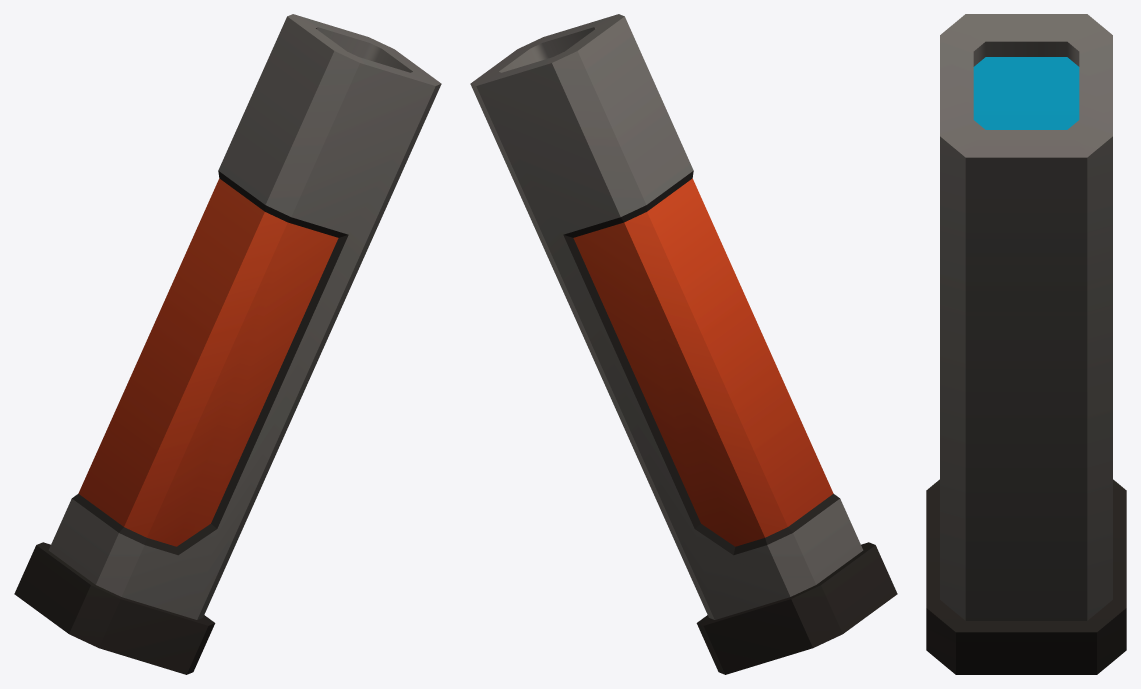
The model's file is SMG1_MagazineExtended.fbx.
3 views of the same model, side by side, from view 1: azimuth 30°, elevation 25°; view 2: azimuth 150°, elevation 25°; view 3: azimuth 270°, elevation 25° (orthographic). The views are drawn at different scales.
Parts seen in each view (by area): view 1: SMG1_MagazineExtended; view 2: SMG1_MagazineExtended; view 3: SMG1_MagazineExtended.
Boxes of the visible parts, x1=… form: SMG1_MagazineExtended: x1=14, y1=14, x2=441, y2=674; SMG1_MagazineExtended: x1=470, y1=14, x2=897, y2=674; SMG1_MagazineExtended: x1=926, y1=14, x2=1126, y2=674.
Size of the model in its own units: 11.01 by 16.29 by 3.93.
